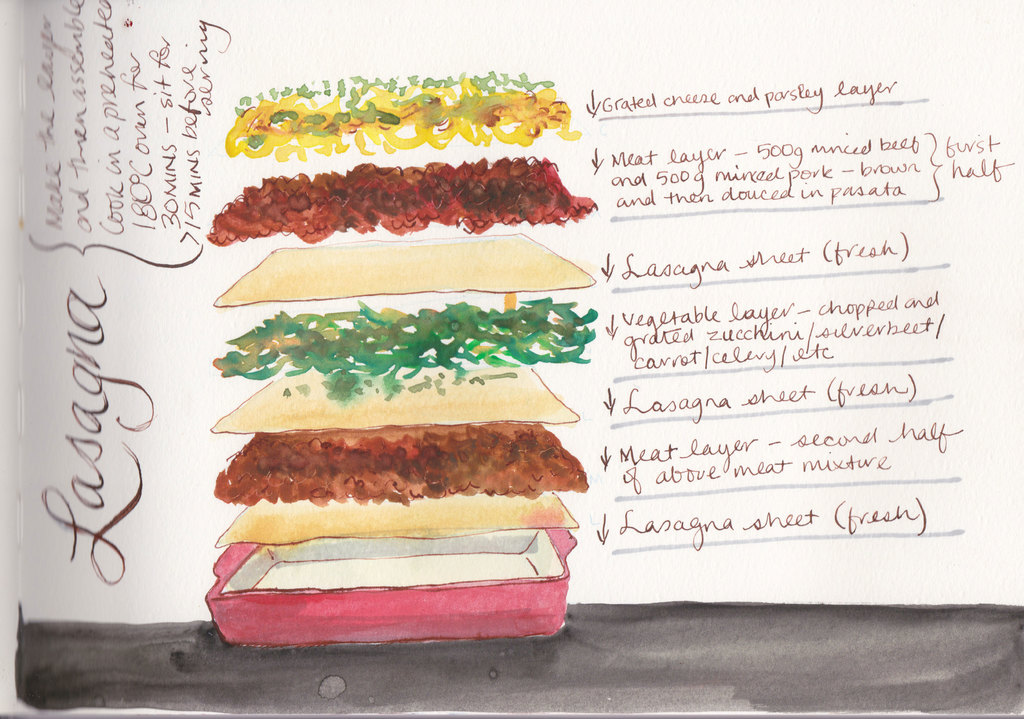sandwich: (211, 65, 588, 538)
